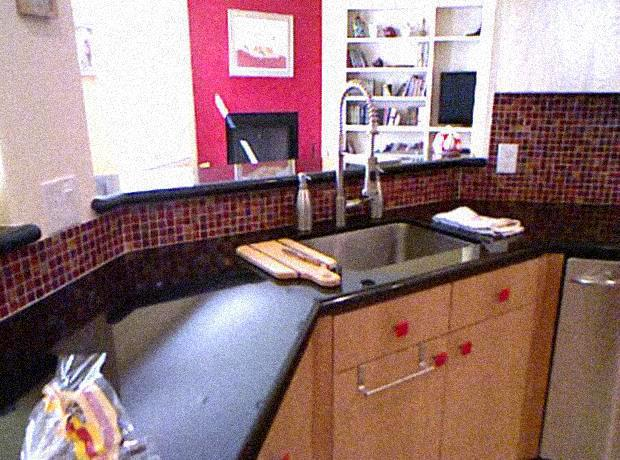Lavaplatos: (275, 57, 493, 289)
